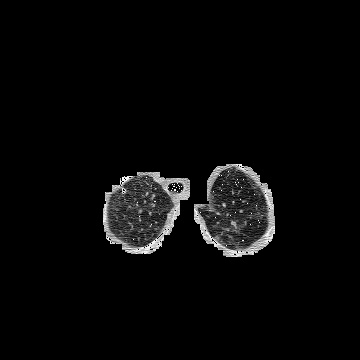PN: (121, 188, 125, 192)
